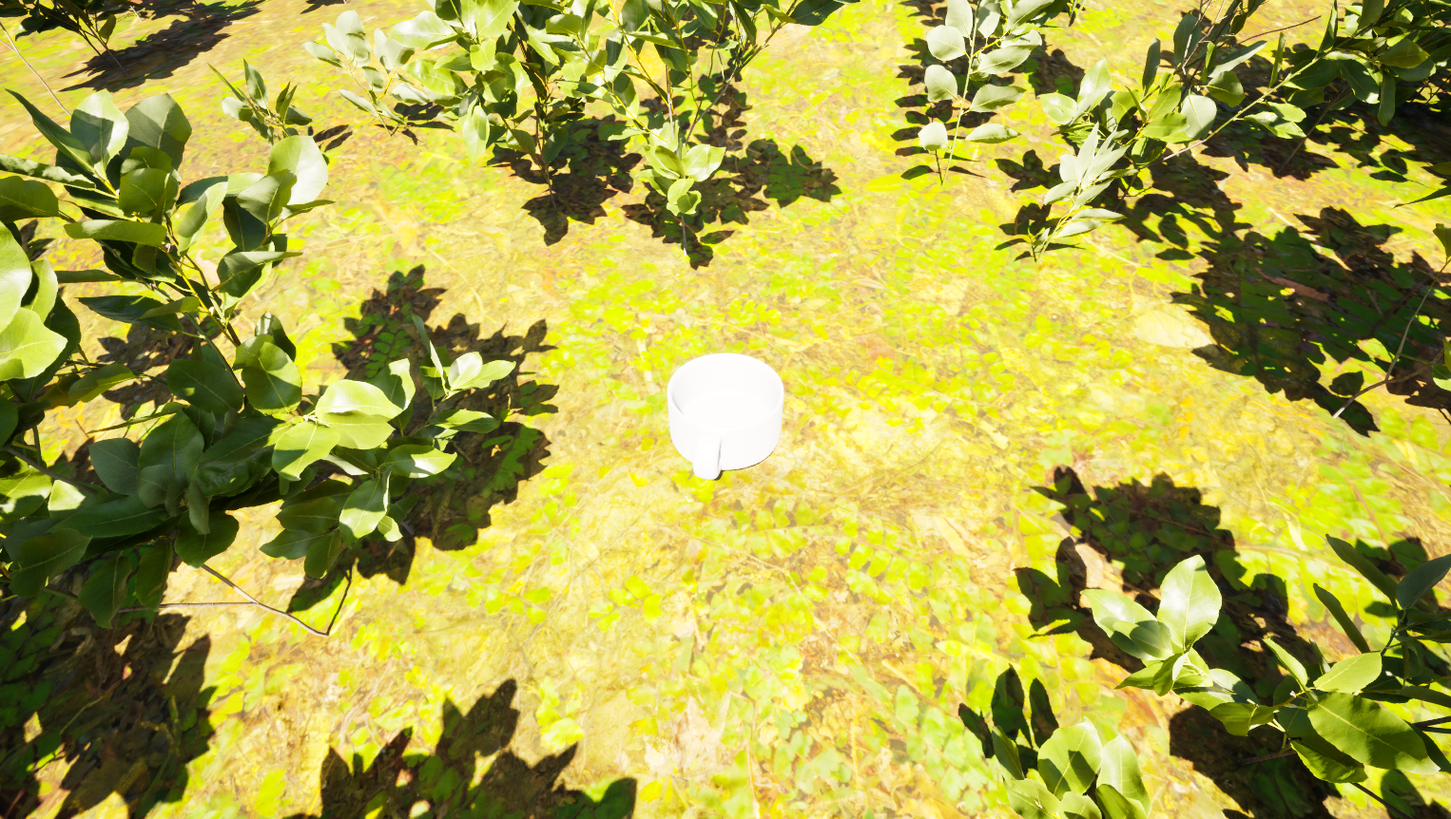Teacup: (629, 339, 808, 500)
